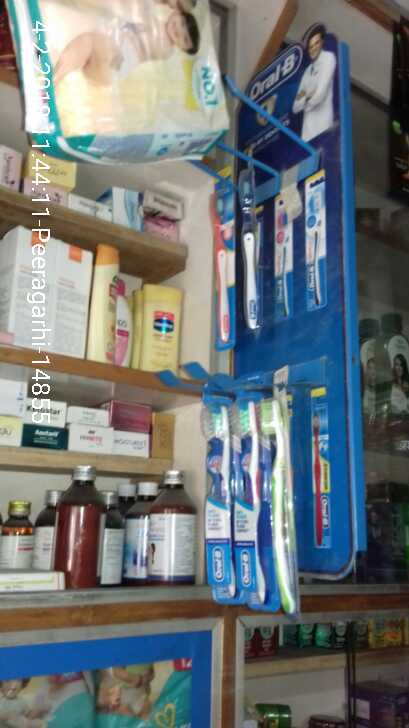oralb: (255, 400, 297, 614), (196, 406, 233, 593), (232, 397, 256, 607)
